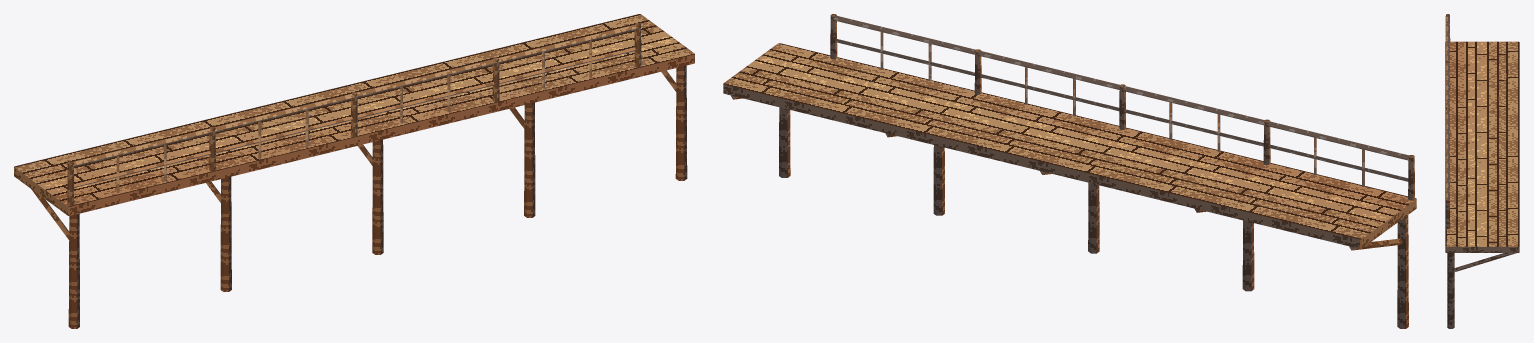
The model's file is wtown.gallery__long.glb.
The picture shows the model from 3 angles, left to right: view 1: azimuth 30°, elevation 25°; view 2: azimuth 150°, elevation 25°; view 3: azimuth 270°, elevation 25°; orthographic projection. The views are drawn at different scales.
Parts seen in each view (by area): view 1: kit_deck, kit_railing, kit_posts, kit_braces; view 2: kit_deck, kit_railing, kit_posts; view 3: kit_deck, kit_railing, kit_posts, kit_braces.
Boxes of the visible parts, bbox=[...] form: kit_deck: bbox=[14, 14, 694, 215]; kit_railing: bbox=[67, 23, 641, 205]; kit_posts: bbox=[68, 65, 687, 328]; kit_braces: bbox=[31, 70, 676, 239]; kit_deck: bbox=[723, 43, 1416, 248]; kit_railing: bbox=[830, 14, 1414, 200]; kit_posts: bbox=[779, 107, 1408, 328]; kit_deck: bbox=[1445, 41, 1519, 252]; kit_railing: bbox=[1445, 14, 1450, 229]; kit_posts: bbox=[1447, 253, 1454, 328]; kit_braces: bbox=[1454, 253, 1516, 271].
Bounding box in the file's own units: 15.72 × 4.01 × 2.4.
4 materials, 4 textured.
